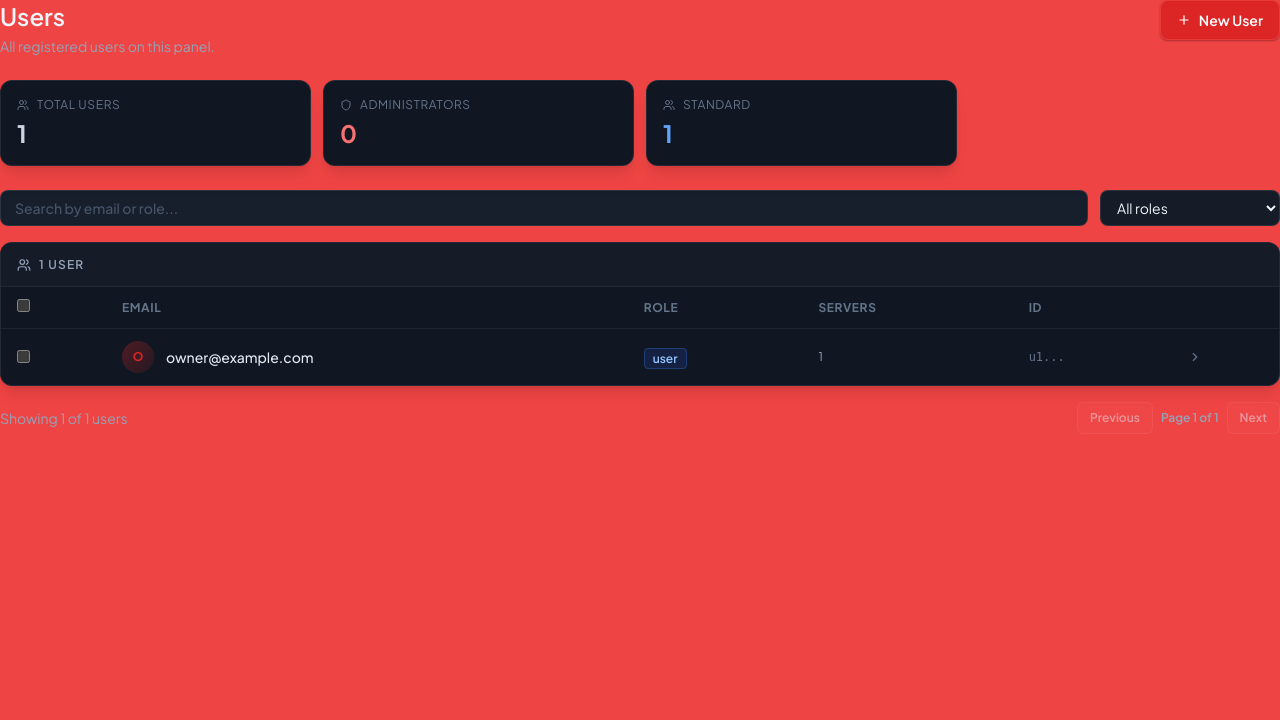
Test: admin mutation protections › disables user deletion when the user owns a server
Click the button "owner@example.com": x=240, y=357 [166,347,314,367]
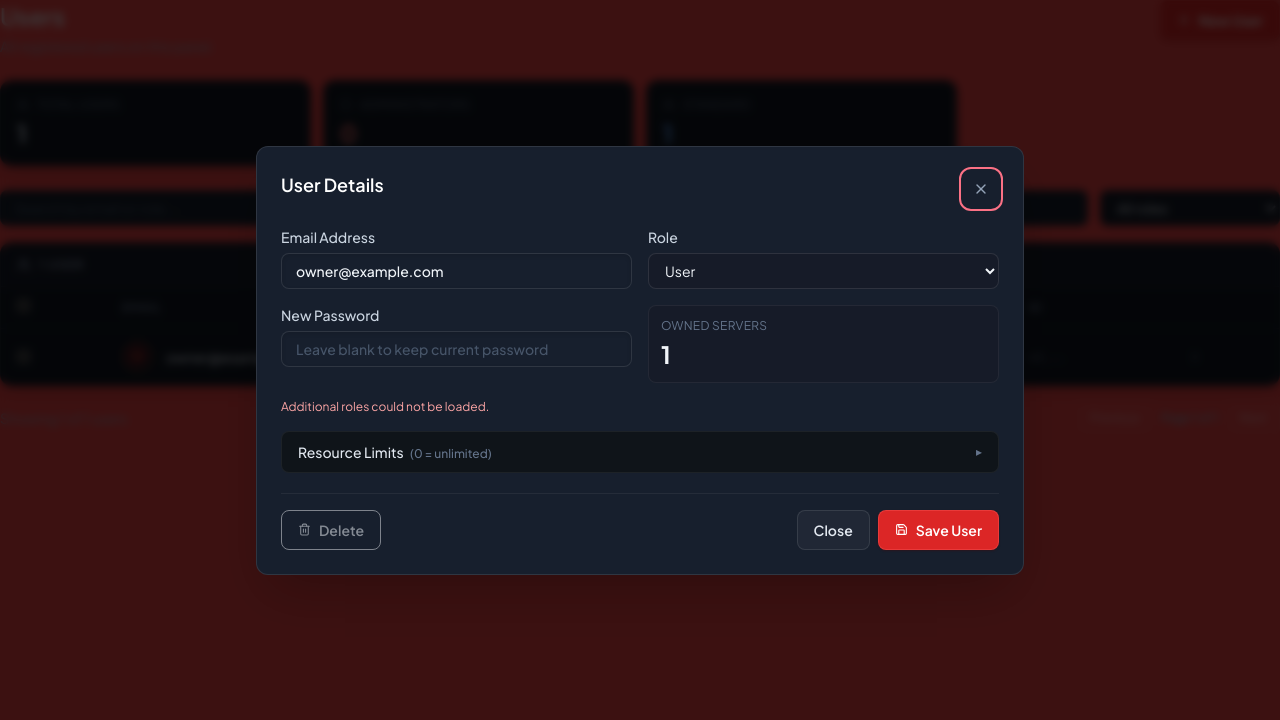
Check: the text "Owned Servers" is shown, box [661,318,767,332]
Check: the button "Delete" is disabled, box [281,510,381,550]
